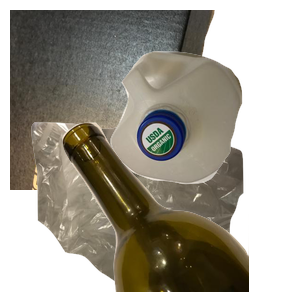cardboard: (10, 10, 217, 190)
glass: (60, 120, 300, 300)
plastic: (108, 49, 300, 226)
trash: (29, 120, 265, 300)
